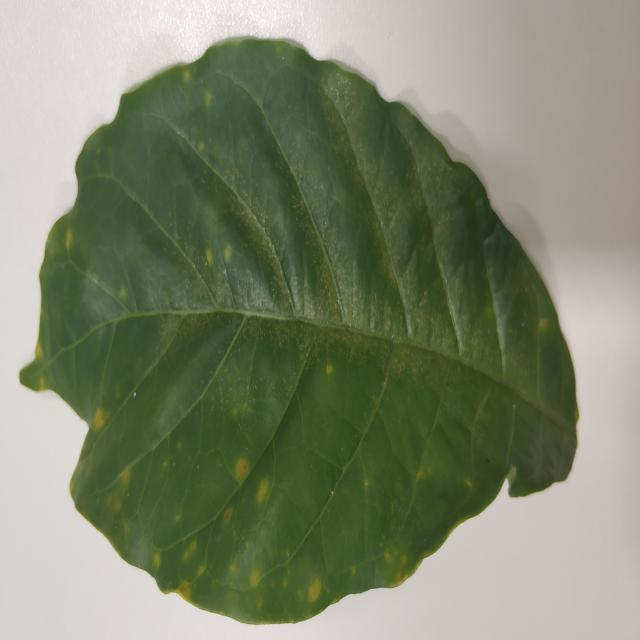Enfermedad-Roya: (19, 37, 581, 628)
